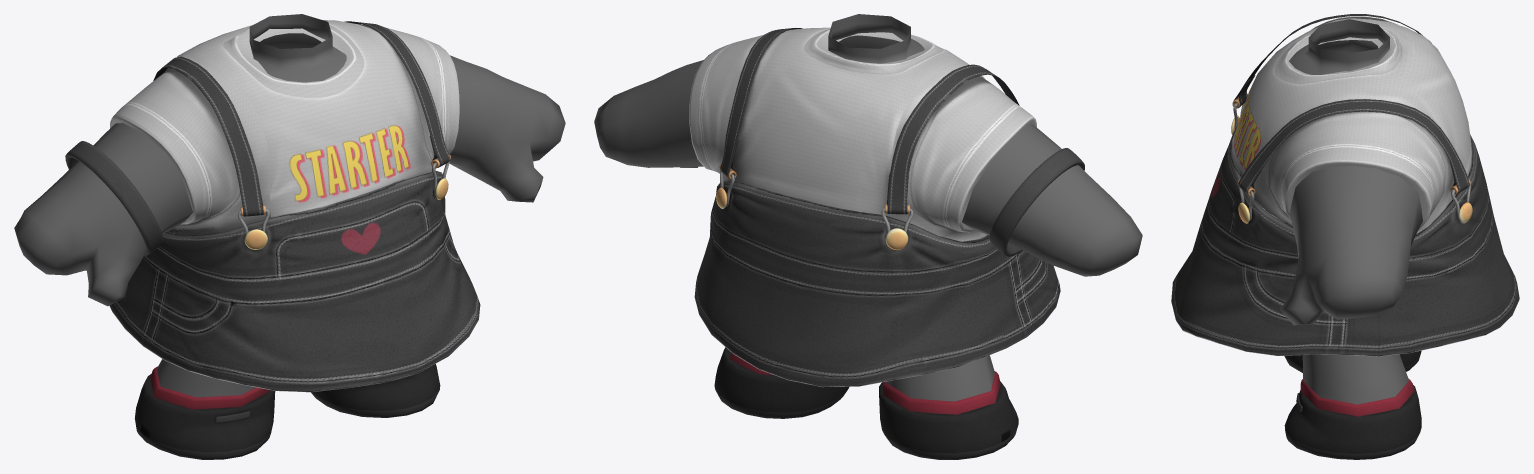
The picture shows the model from 3 angles, left to right: view 1: azimuth 30°, elevation 25°; view 2: azimuth 150°, elevation 25°; view 3: azimuth 270°, elevation 25°; orthographic projection. The views are drawn at different scales.
Parts seen in each view (by area): view 1: OF4, Body_low; view 2: OF4, Body_low; view 3: OF4, Body_low.
Boxes of the visible parts, <box> form: OF4: <box>65,20,480,459</box>; Body_low: <box>14,14,565,397</box>; OF4: <box>689,27,1084,459</box>; Body_low: <box>594,14,1142,401</box>; OF4: <box>1171,14,1519,459</box>; Body_low: <box>1279,19,1422,404</box>.
Bounding box in the file's own units: 45.76 × 30.97 × 27.01.
2 materials, 1 textured.
